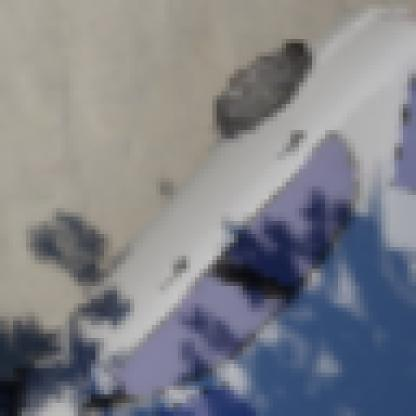Car: (34, 11, 414, 413)
